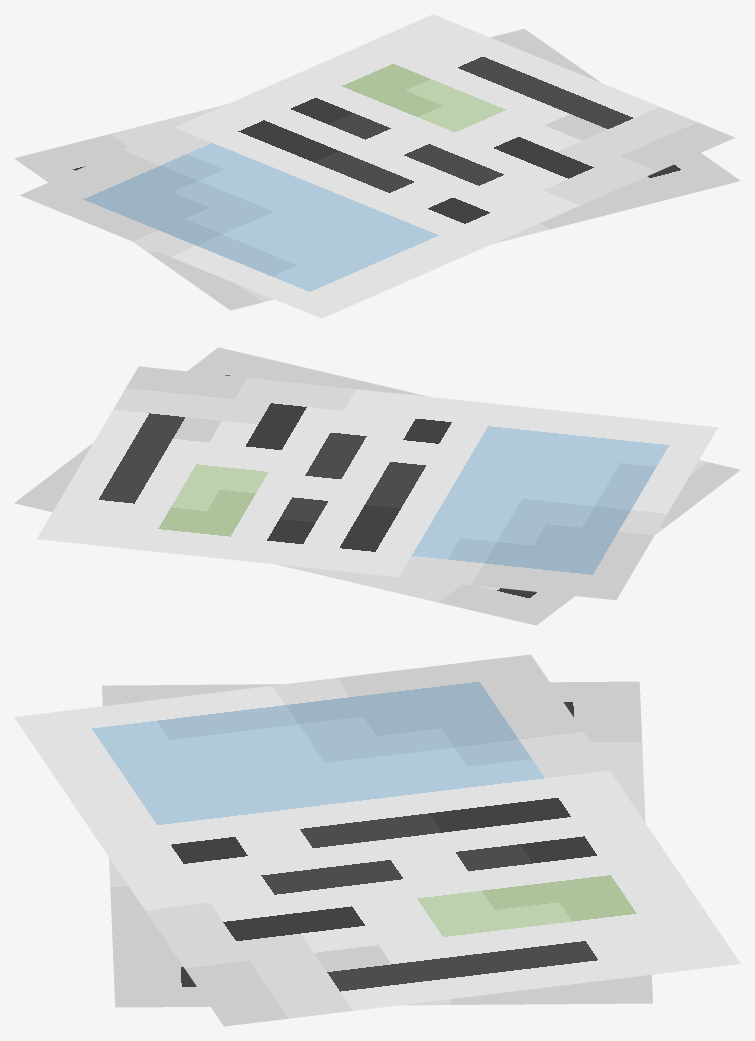
File: double-paper.fbx
The picture shows the model from 3 angles, top to bottom: view 1: azimuth 30°, elevation 25°; view 2: azimuth 150°, elevation 25°; view 3: azimuth 270°, elevation 25°; orthographic projection. The views are drawn at different scales.
Parts seen in each view (by area): view 1: plane, plane_1; view 2: plane, plane_1; view 3: plane, plane_1.
Part boxes in pixels (x1,y1,x2,y2): plane: [20, 14, 734, 318]; plane_1: [14, 28, 740, 310]; plane: [37, 366, 717, 600]; plane_1: [14, 347, 740, 625]; plane: [14, 654, 740, 1026]; plane_1: [102, 681, 652, 1007].
Bounding box in the file's own units: 12.28 × 0.0625 × 10.14.
Materials: 2 (2 with a texture image).
